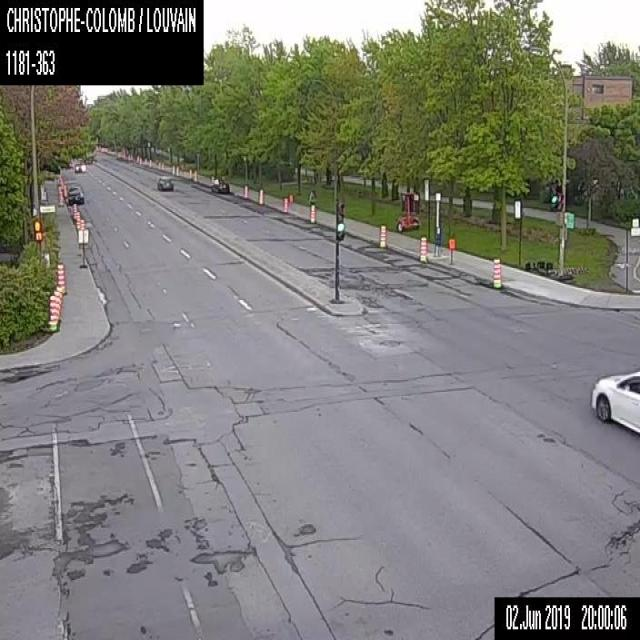construction: (395, 191, 420, 231), (78, 227, 88, 267), (491, 256, 503, 289), (48, 294, 58, 332), (57, 262, 67, 295), (53, 288, 60, 327), (447, 237, 456, 263), (419, 234, 427, 262), (56, 284, 62, 321), (378, 222, 386, 248), (309, 203, 316, 223), (282, 195, 288, 212), (72, 202, 77, 220), (258, 188, 263, 205), (58, 190, 63, 205), (76, 211, 80, 229), (288, 193, 292, 210), (243, 184, 247, 198), (57, 184, 61, 198), (188, 167, 192, 180), (80, 218, 85, 228), (63, 183, 66, 196), (194, 169, 196, 182), (176, 164, 178, 176), (172, 163, 174, 174)
vehicle: (589, 368, 639, 436), (66, 184, 84, 204), (209, 177, 230, 192), (156, 175, 174, 190), (74, 161, 86, 172)
